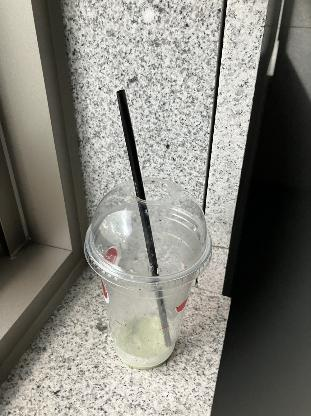Plastic Cup: (82, 177, 216, 373), (82, 177, 216, 293), (116, 91, 174, 344)
